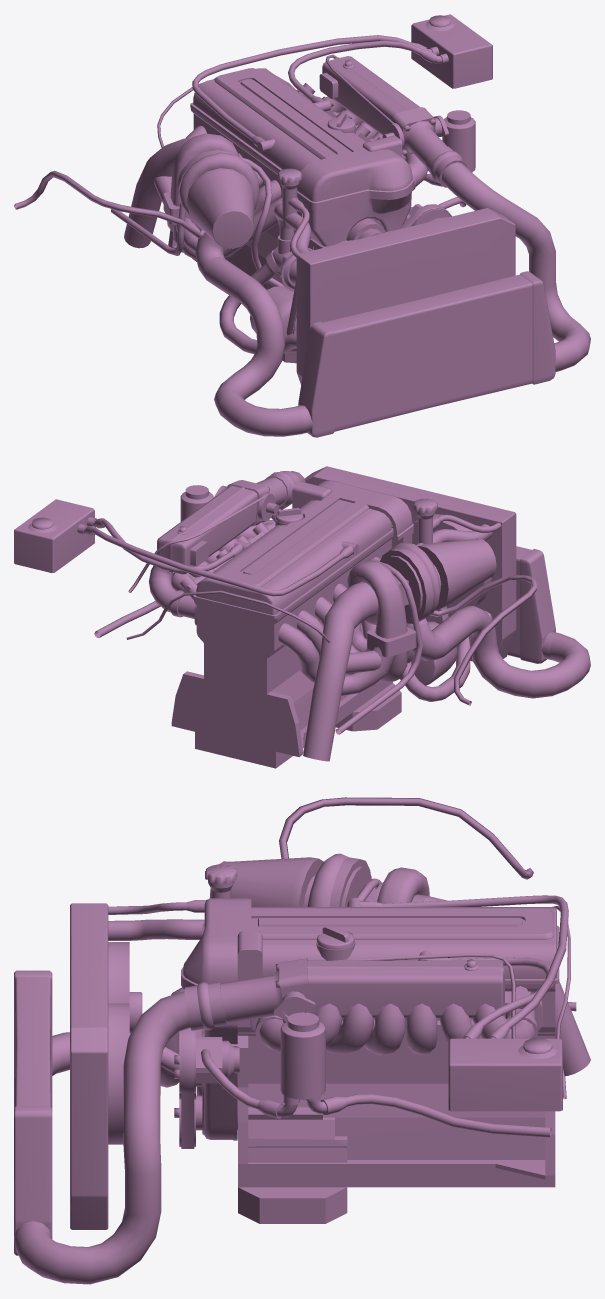
File: AdamLZ_E36_Engine_Engine.fbx
3 renders of one model, top to bottom at view 1: azimuth 30°, elevation 25°; view 2: azimuth 150°, elevation 25°; view 3: azimuth 270°, elevation 25°, orthographic. The views are drawn at different scales.
Parts seen in each view (by area): view 1: AdamLZ_E36_Engine_Engine; view 2: AdamLZ_E36_Engine_Engine; view 3: AdamLZ_E36_Engine_Engine.
Part boxes in pixels (bbox=[...]): AdamLZ_E36_Engine_Engine: bbox=[14, 14, 590, 437]; AdamLZ_E36_Engine_Engine: bbox=[14, 466, 590, 768]; AdamLZ_E36_Engine_Engine: bbox=[14, 797, 590, 1284].
Size of the model in its own units: 137 by 60.75 by 113.
